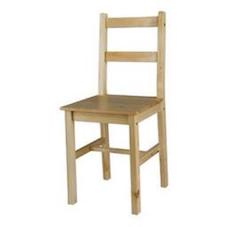chair: (38, 12, 204, 211)
